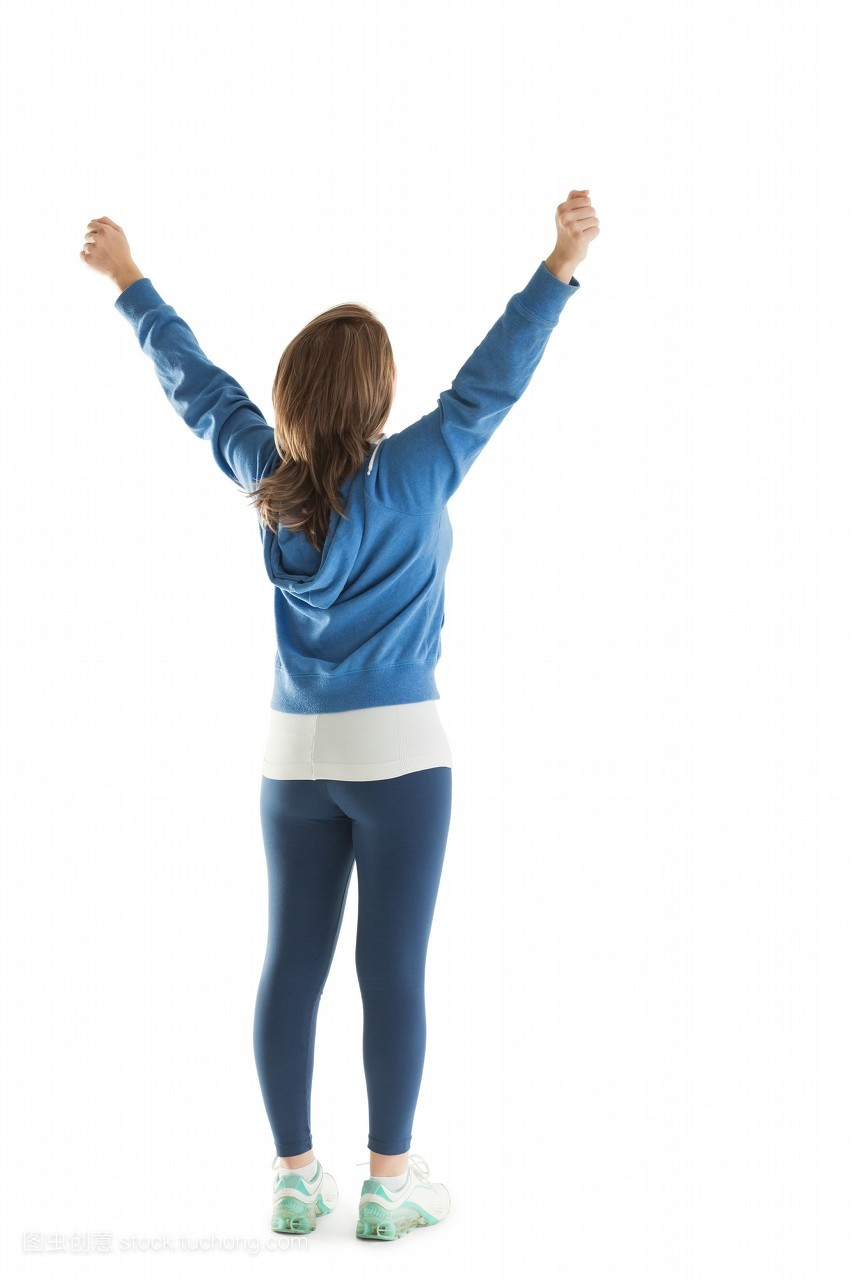handsup: (72, 172, 680, 1253)
